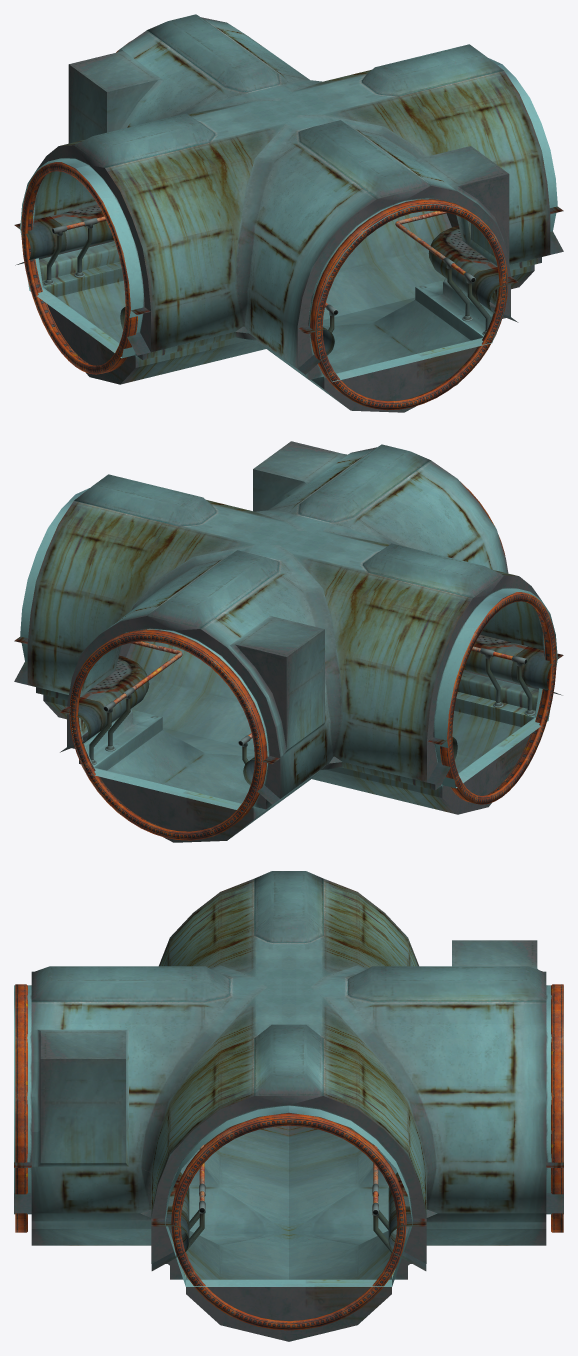
Rendered from phi_tunnel_4way.DAE.
3 renders of one model, top to bottom at view 1: azimuth 30°, elevation 25°; view 2: azimuth 150°, elevation 25°; view 3: azimuth 270°, elevation 25°, orthographic. The views are drawn at different scales.
Parts seen in each view (by area): view 1: polySurface402, pPipe59, pPipe55, polySurface406, polySurface398, polySurface405, polySurface407, polySurface404; view 2: polySurface402, pPipe56, pPipe55, polySurface397, polySurface407, polySurface404, polySurface398, polySurface405; view 3: polySurface402, pPipe54, pPipe56, pPipe59, polySurface406, polySurface397, polySurface404, polySurface405.
Boxes of the visible parts, x1,y1,x2,y2 form: polySurface402: (20,14,557,412); pPipe59: (310,199,508,410); pPipe55: (21,162,137,374); polySurface406: (428,206,563,322); polySurface398: (14,204,114,265); polySurface405: (325,211,489,335); polySurface407: (120,291,334,374); polySurface404: (44,216,106,285); polySurface402: (20,441,557,842); pPipe56: (69,629,267,840); pPipe55: (440,592,556,804); polySurface397: (14,636,149,752); polySurface407: (463,634,563,695); polySurface404: (89,641,252,764); polySurface398: (243,721,457,804); polySurface405: (471,646,535,715); polySurface402: (14,871,563,1341); pPipe54: (171,1113,406,1330); pPipe56: (551,984,563,1232); pPipe59: (15,984,27,1232); polySurface406: (14,1162,189,1270); polySurface397: (388,1162,563,1270); polySurface404: (372,1144,391,1253); polySurface405: (184,1144,205,1275).
Bounding box in the file's own units: 8 × 4.17 × 8.
